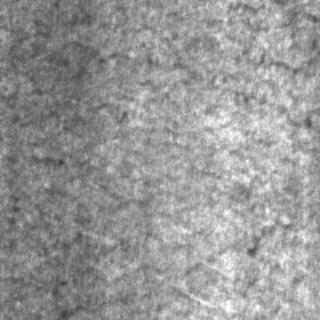crazing: (0, 37, 192, 117), (206, 0, 318, 132)
